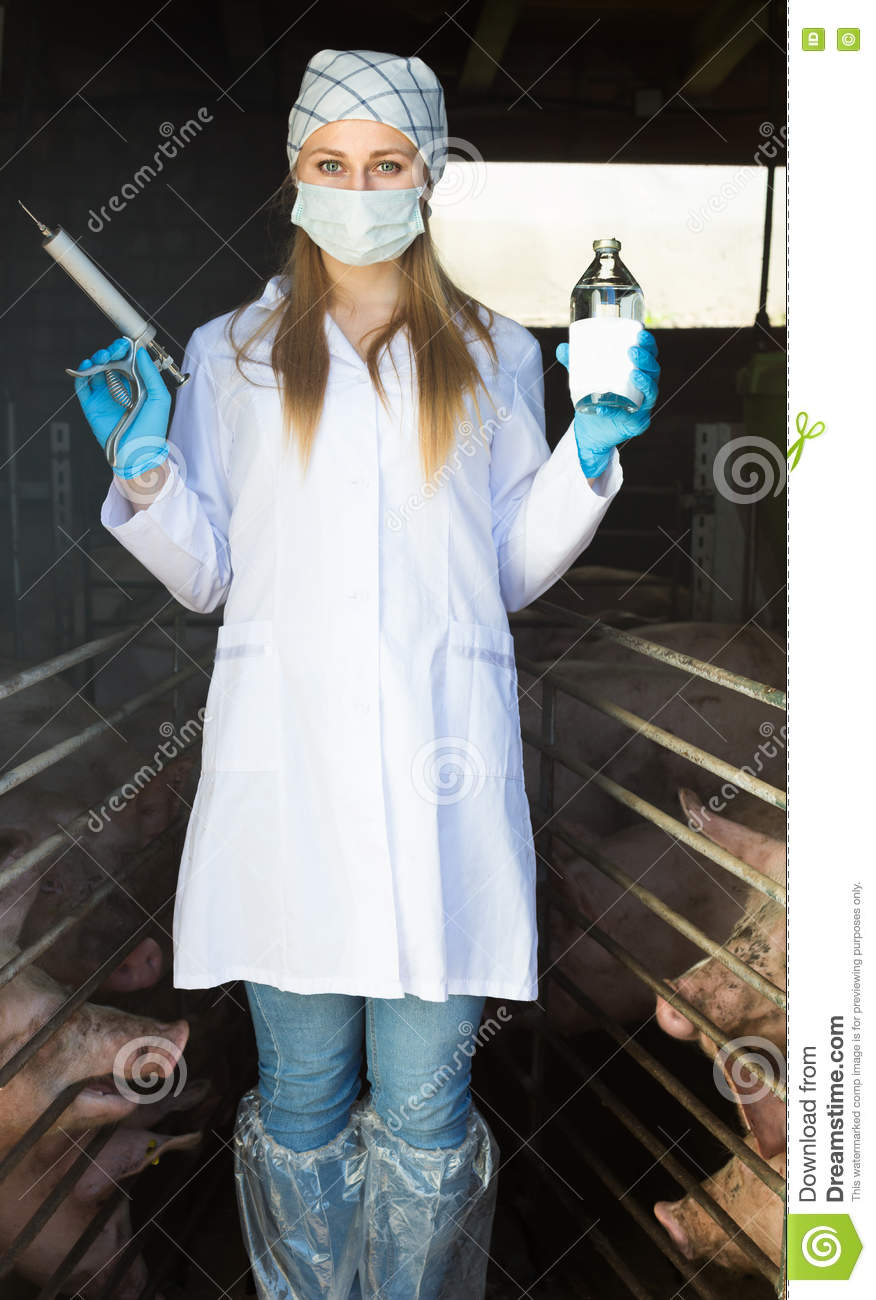mask: (290, 180, 428, 269)
